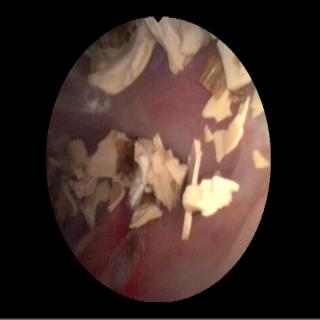stone: (49, 131, 238, 240), (86, 19, 212, 94), (199, 43, 250, 122), (205, 98, 251, 161), (250, 91, 263, 116), (252, 149, 270, 167)
tissue: (69, 123, 267, 296), (50, 48, 210, 151)
